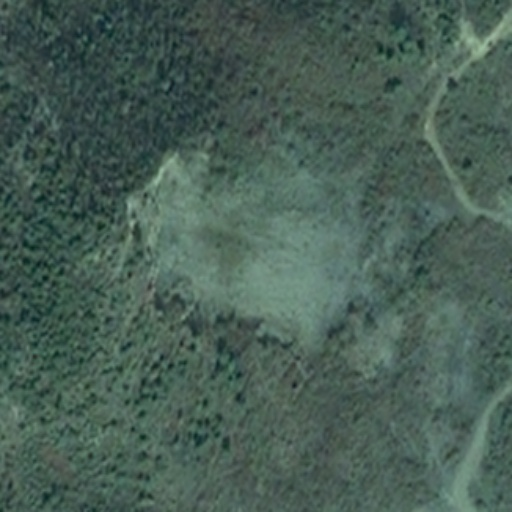landslide: (123, 146, 366, 342)
